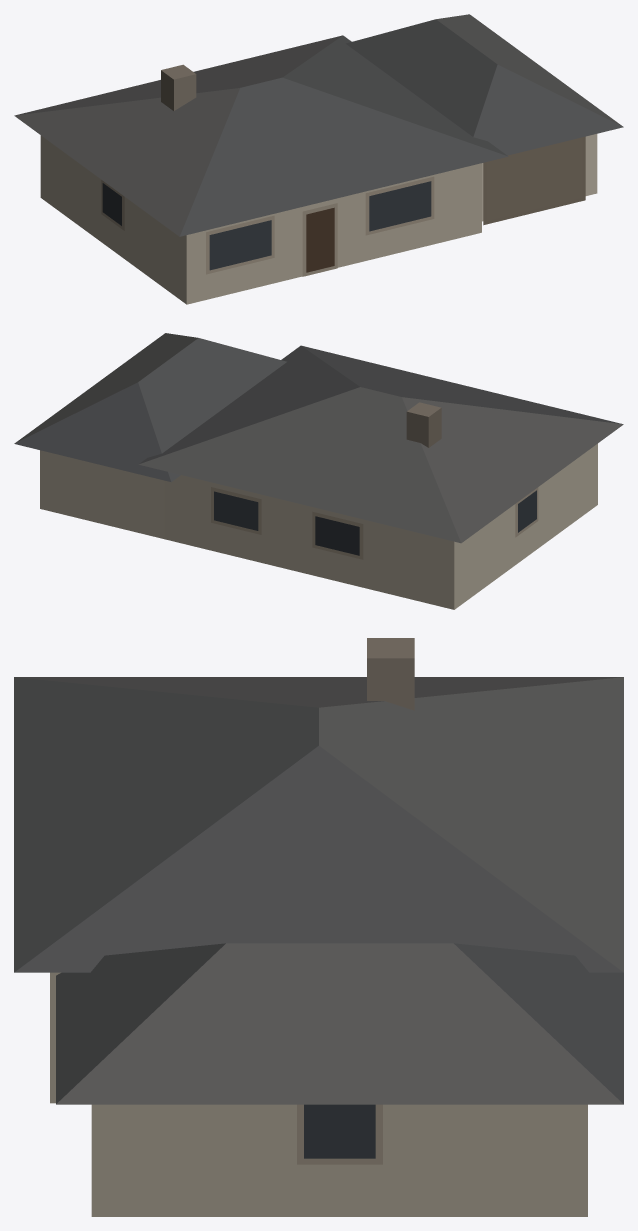
File: house-ranch.glb
3 views of the same model, one above another, from view 1: azimuth 30°, elevation 25°; view 2: azimuth 150°, elevation 25°; view 3: azimuth 270°, elevation 25° (orthographic). The views are drawn at different scales.
Visible parts, largest first — view 1: house-ranch_v0_LOD0; view 2: house-ranch_v0_LOD0; view 3: house-ranch_v0_LOD0.
Part boxes in pixels (box(x1,y1,x2,y2)): house-ranch_v0_LOD0: box(14, 14, 623, 304); house-ranch_v0_LOD0: box(14, 333, 623, 609); house-ranch_v0_LOD0: box(14, 638, 623, 1216).
Size of what is drawn, in the model's own units: 16.2 by 5.02 by 10.2.
